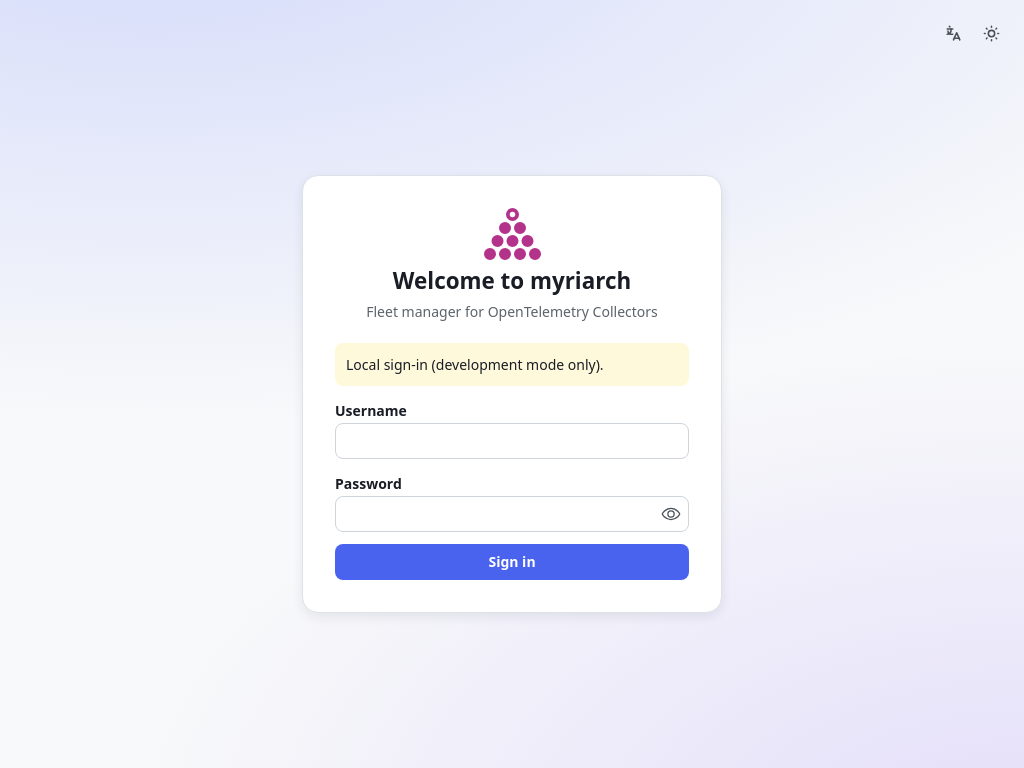
Test case: authentication › shows a localized error for invalid credentials
Type "x" into the field labelled "Username" at (512, 441), box 335,423 -> 689,459
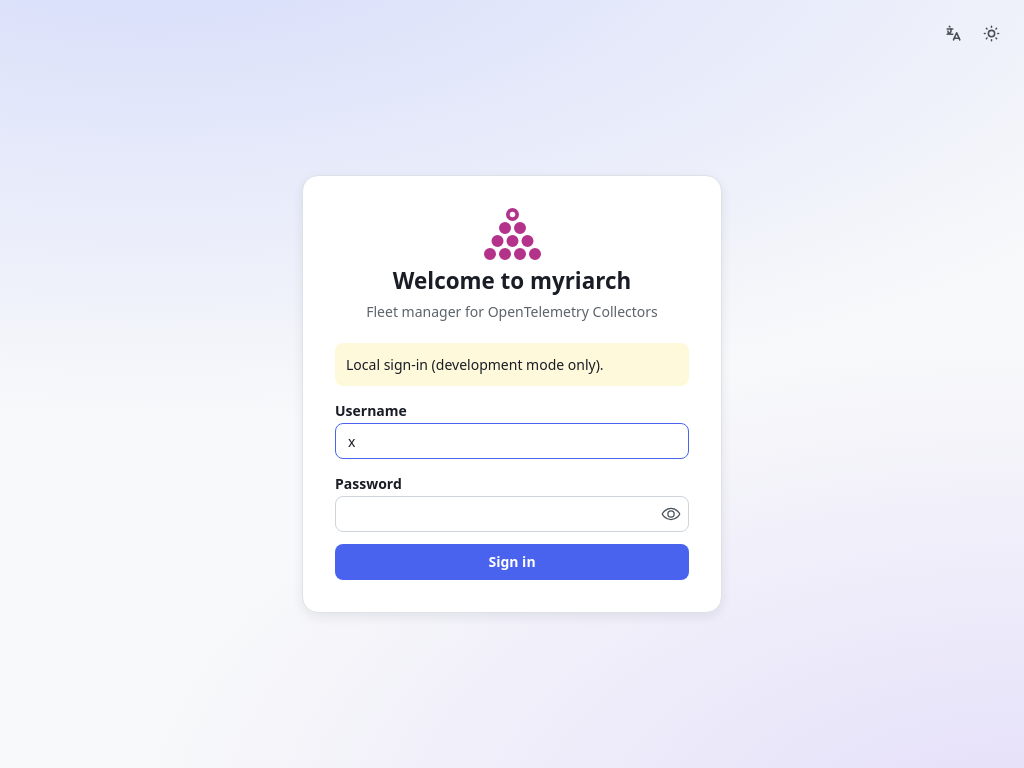
Type "y" into the password field labelled "Password" at (512, 514), box 336,497 -> 688,531
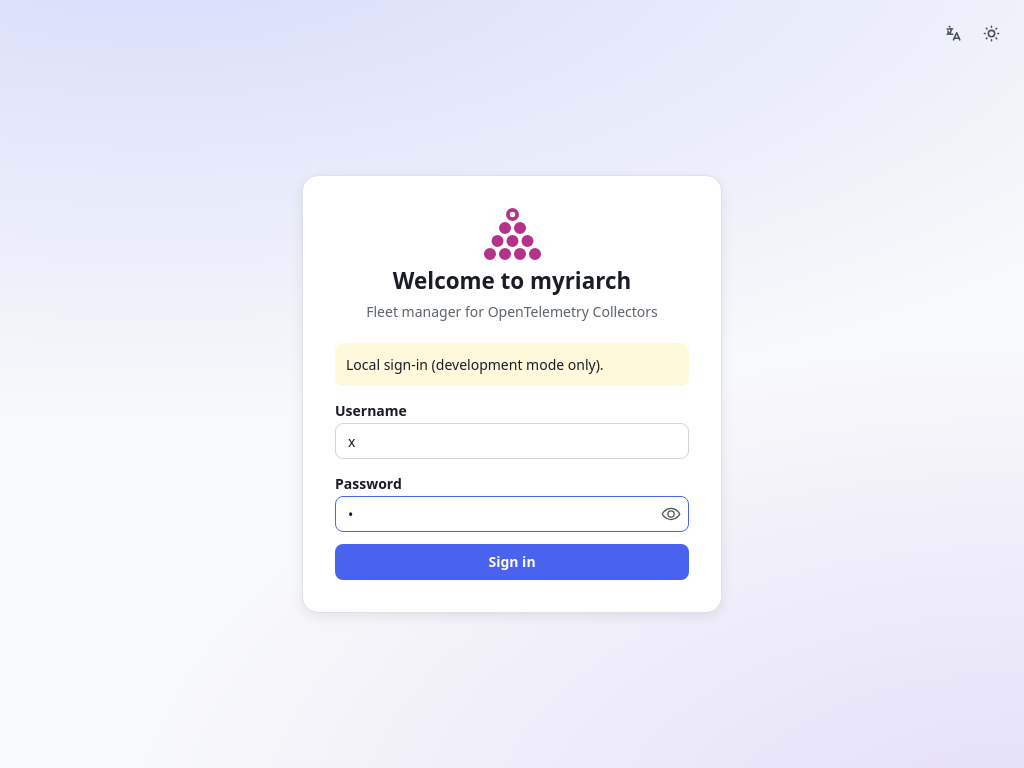
Click the button "Sign in" at (512, 562), box 335,544 -> 689,580
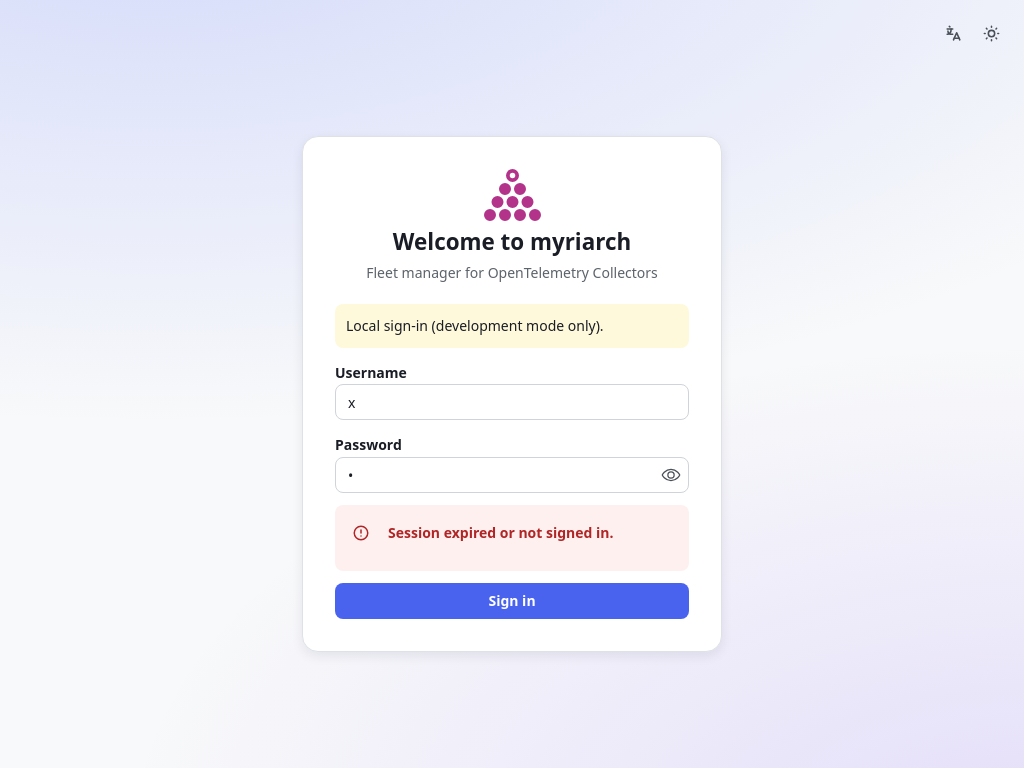
Check: the text "Session expired or not signed in." is shown, box 388,522 -> 614,544
